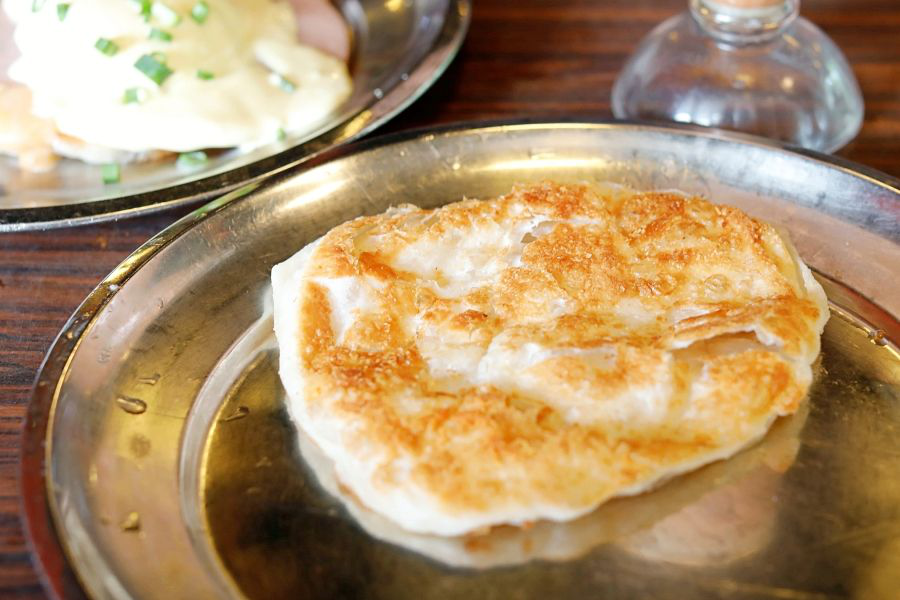Prata: (236, 176, 845, 543)
